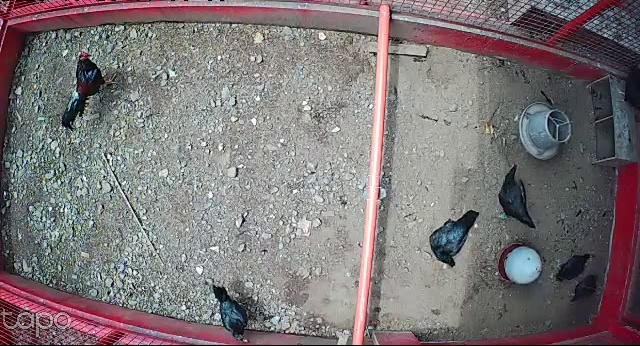Chicken: (428, 207, 482, 268), (493, 163, 538, 230), (208, 283, 255, 346), (551, 251, 594, 283), (567, 272, 600, 304)
Drinker: (498, 242, 542, 285)
Feeder: (520, 100, 572, 161)
Leg_Band_Green: (501, 213, 508, 220)
Rooster: (61, 49, 120, 134)
